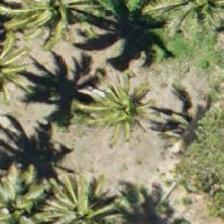coconut_tree: (77, 64, 167, 154), (37, 167, 127, 223), (3, 0, 93, 53), (0, 156, 55, 223)
